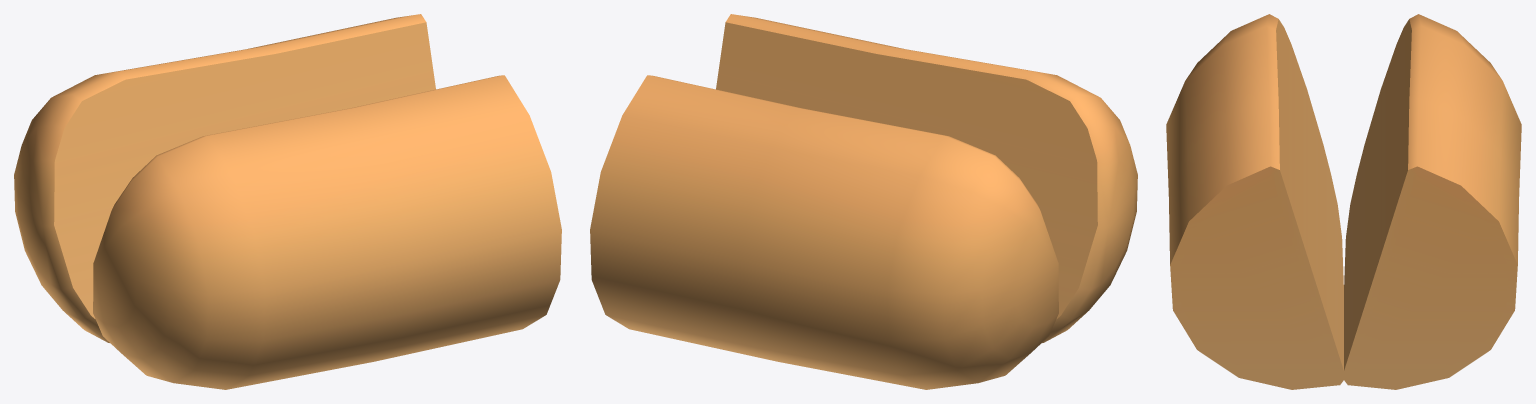
Rendered from HotDog_bun_half.fbx.
The picture shows the model from 3 angles, left to right: view 1: azimuth 30°, elevation 25°; view 2: azimuth 150°, elevation 25°; view 3: azimuth 270°, elevation 25°; orthographic projection. The views are drawn at different scales.
Parts seen in each view (by area): view 1: HotDog_bun_half; view 2: HotDog_bun_half; view 3: HotDog_bun_half.
Part boxes in pixels (x1,y1,x2,y2): HotDog_bun_half: [14, 14, 561, 389]; HotDog_bun_half: [590, 14, 1137, 389]; HotDog_bun_half: [1166, 14, 1521, 389].
Size of the model in its own units: 76.52 by 67.97 by 49.74.
